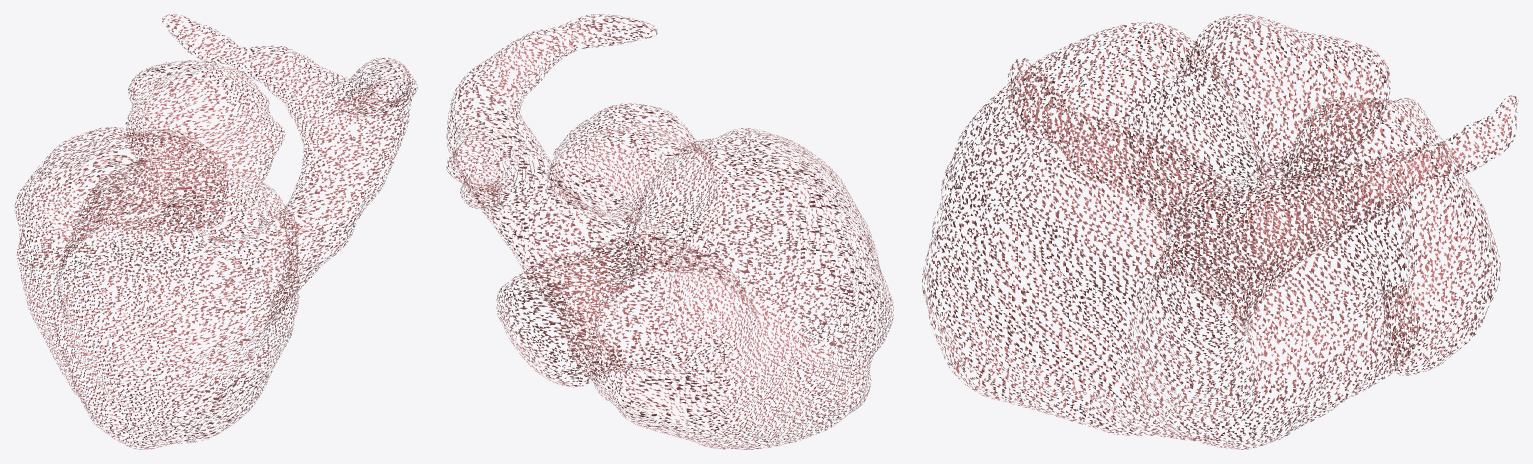
Rendered from heart.glb.
3 views of the same model, side by side, from view 1: azimuth 30°, elevation 25°; view 2: azimuth 150°, elevation 25°; view 3: azimuth 270°, elevation 25° (orthographic). The views are drawn at different scales.
Size of the model in its own units: 140 by 118 by 132.
